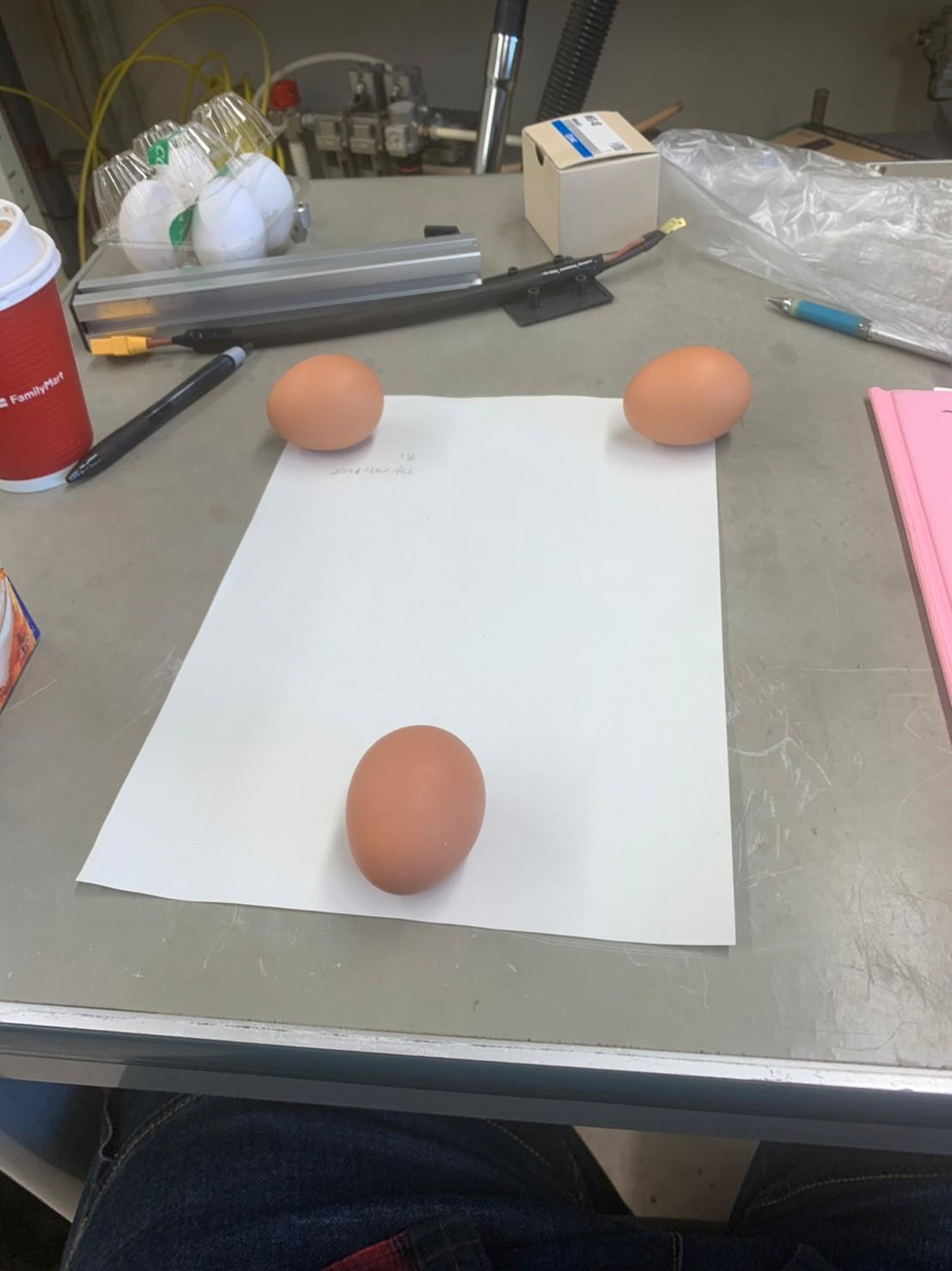egg: (335, 712, 492, 903), (617, 346, 763, 454), (260, 346, 384, 458)
